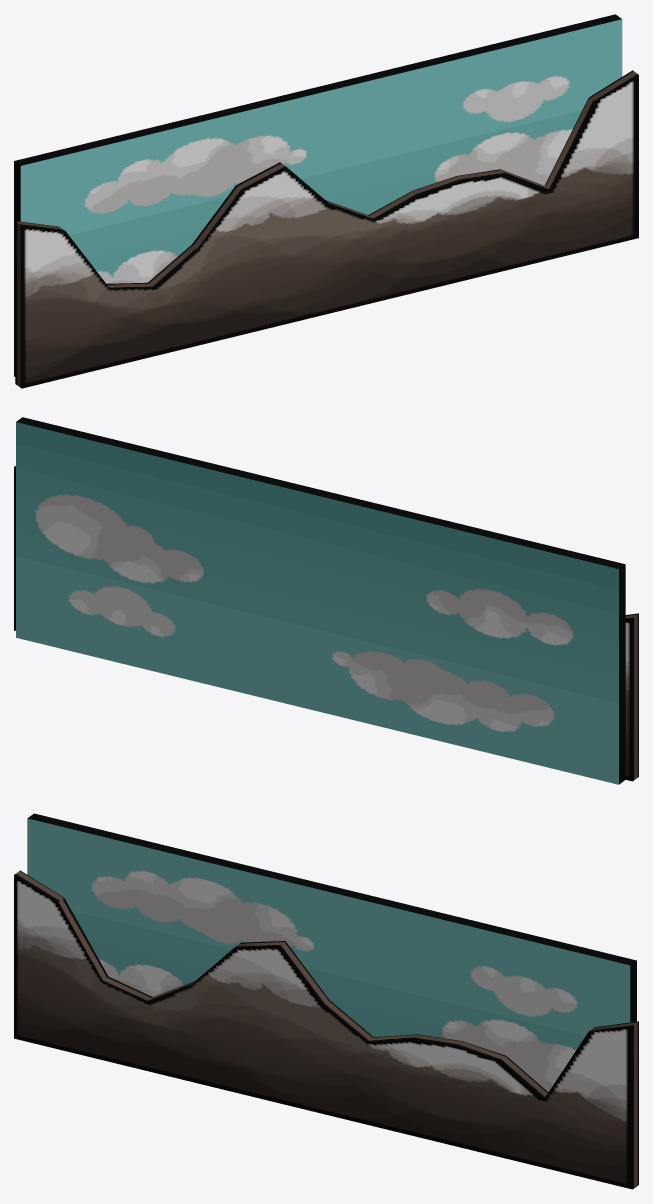
File: Set.FBX
The picture shows the model from 3 angles, top to bottom: view 1: azimuth 30°, elevation 25°; view 2: azimuth 150°, elevation 25°; view 3: azimuth 330°, elevation 25°; orthographic projection.
Parts seen in each view (by area): view 1: Box001, Box002; view 2: Box002, Box001; view 3: Box001, Box002.
Boxes of the visible parts, <box> form: Box001: <box>15,70,638,388</box>; Box002: <box>14,14,622,376</box>; Box002: <box>16,417,625,784</box>; Box001: <box>14,466,638,781</box>; Box001: <box>14,870,638,1189</box>; Box002: <box>27,813,636,1091</box>.
Size of the model in its own units: 797 by 266 by 31.12.
2 materials, 2 textured.
